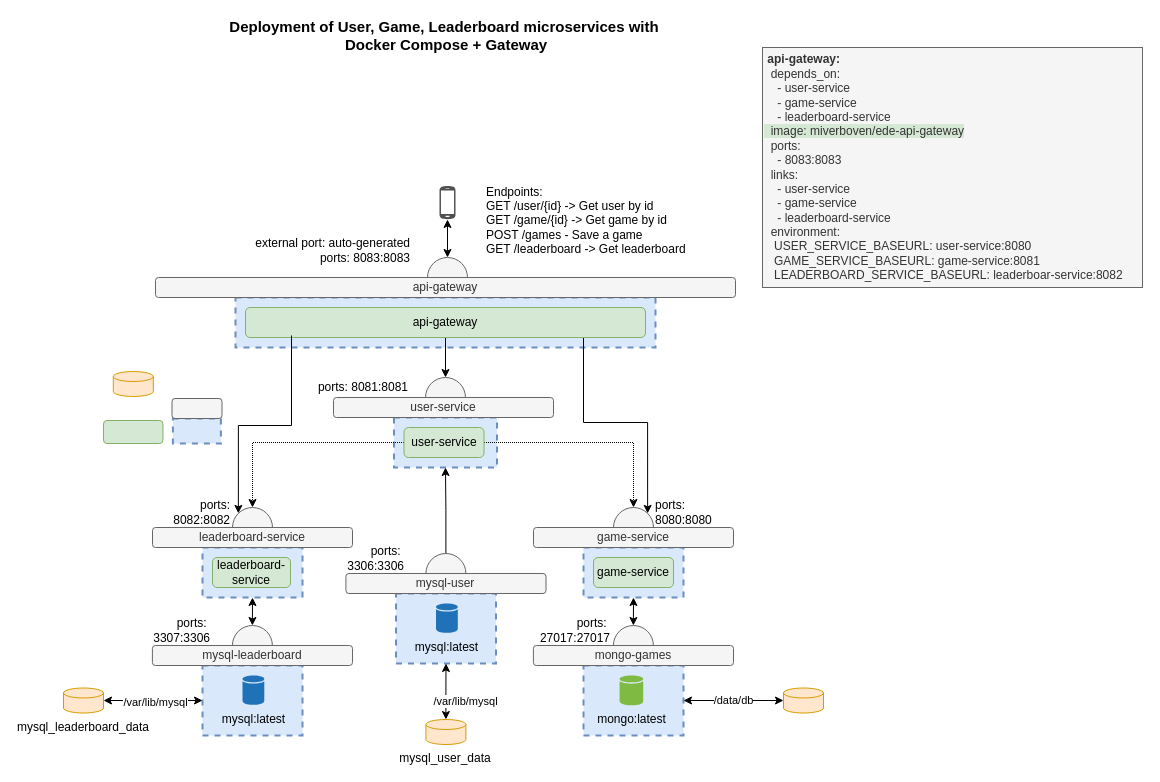
Some shapes in this 1160 by 782 pixel diagram are drawn without their labels. Each missing label, with the centre of its shape:
"container" belongs at point (132, 432).
"mongodb_game_data" belongs at point (803, 700).
"POD" belongs at point (196, 430).
"service" belongs at point (196, 408).
"volume" belongs at point (132, 383).
